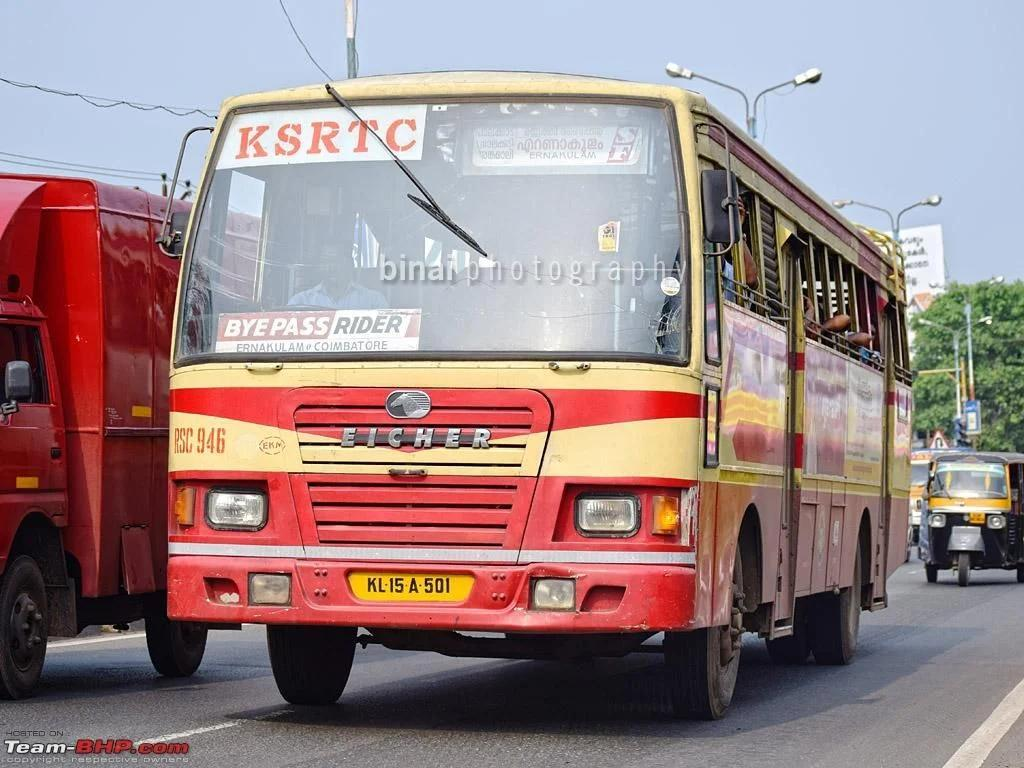Bus: (161, 73, 911, 720)
